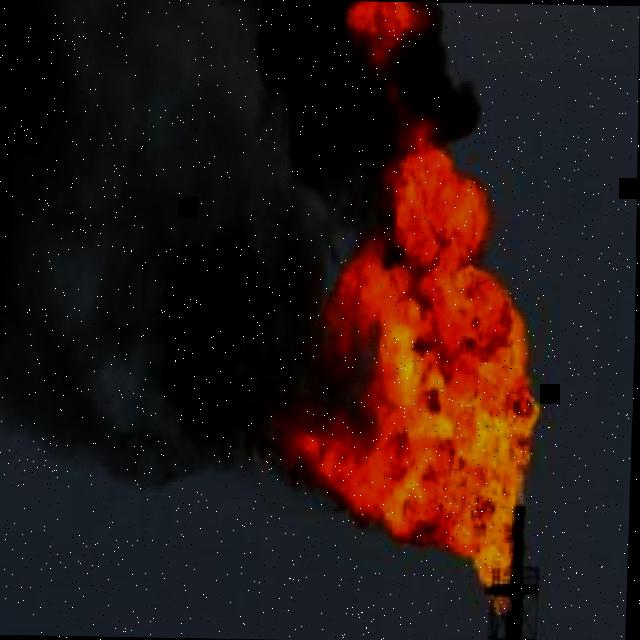fire: (274, 1, 544, 611)
smoke: (0, 0, 395, 488), (395, 2, 483, 141)
